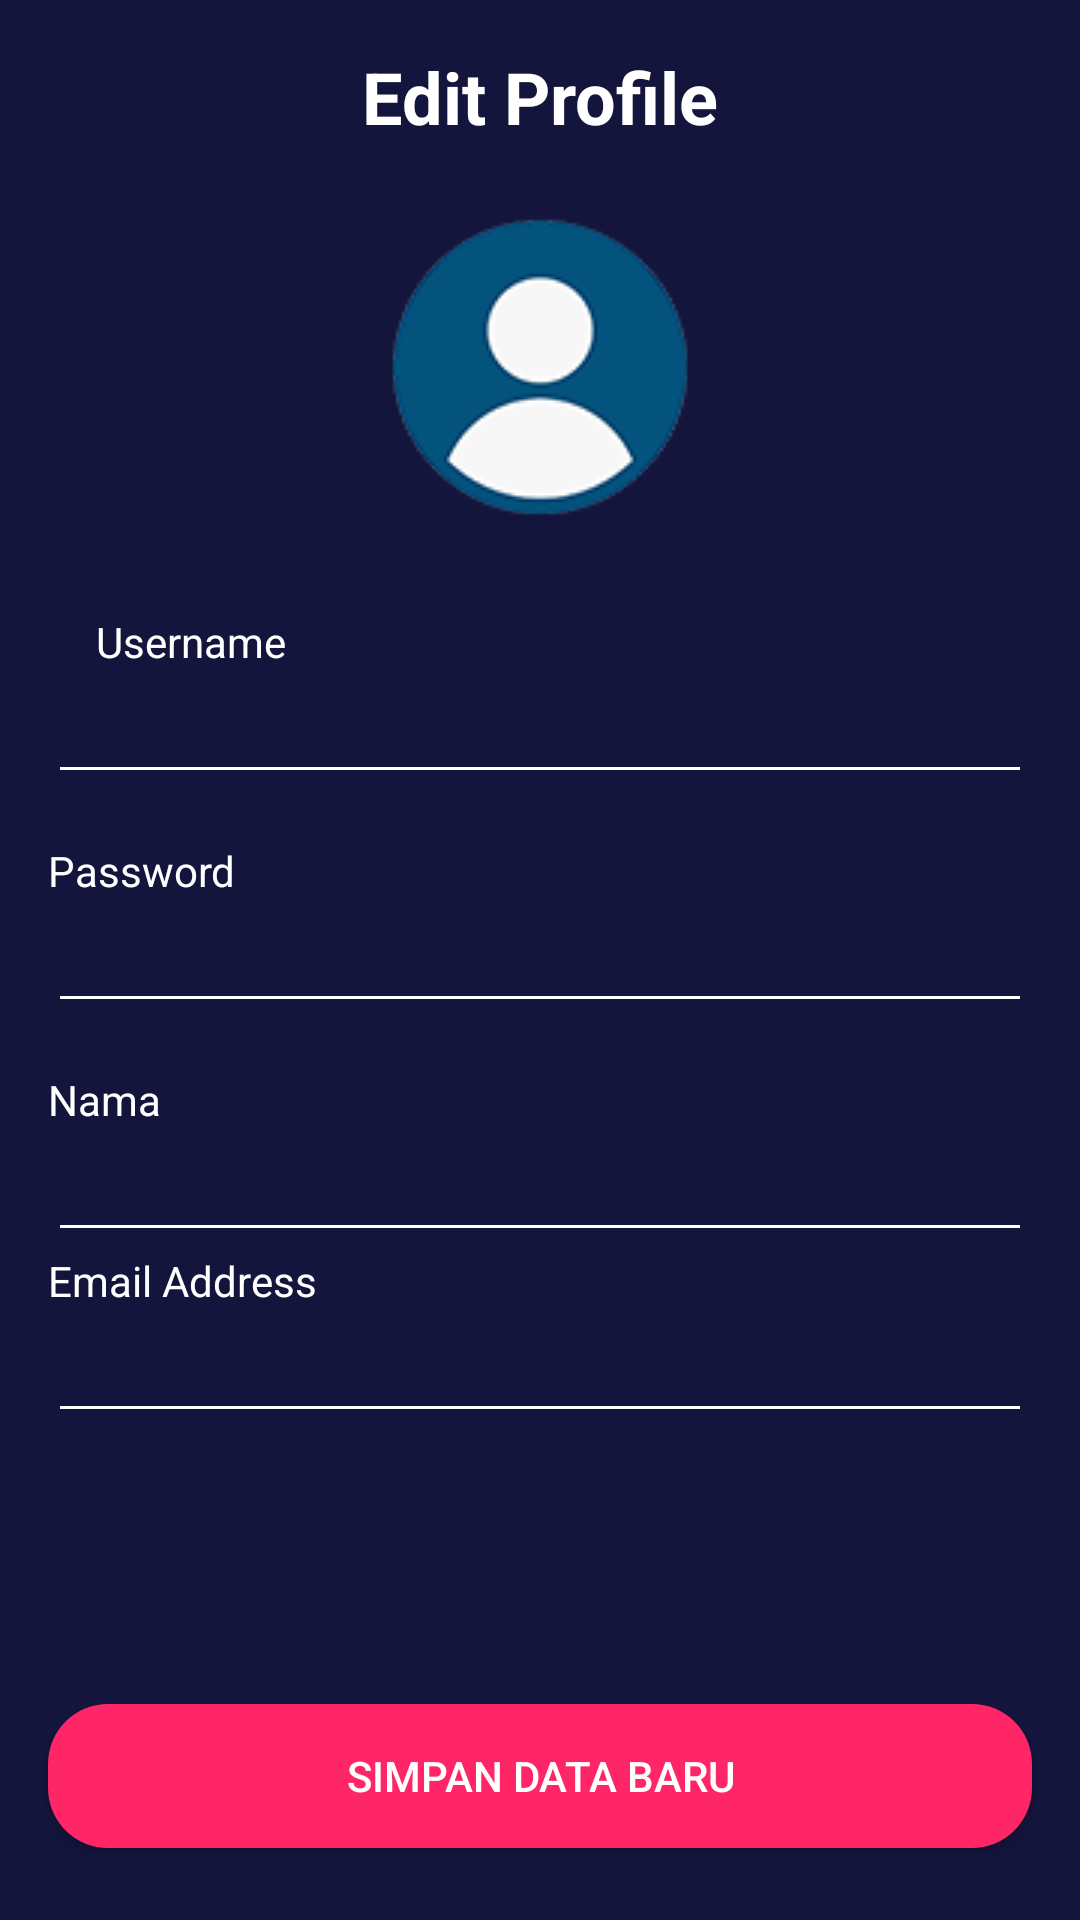

Icon bounding boxes for this 1080*1920 phone screenshot, format (x1, y1, x2, y2):
user pic: (393, 220, 687, 514)
